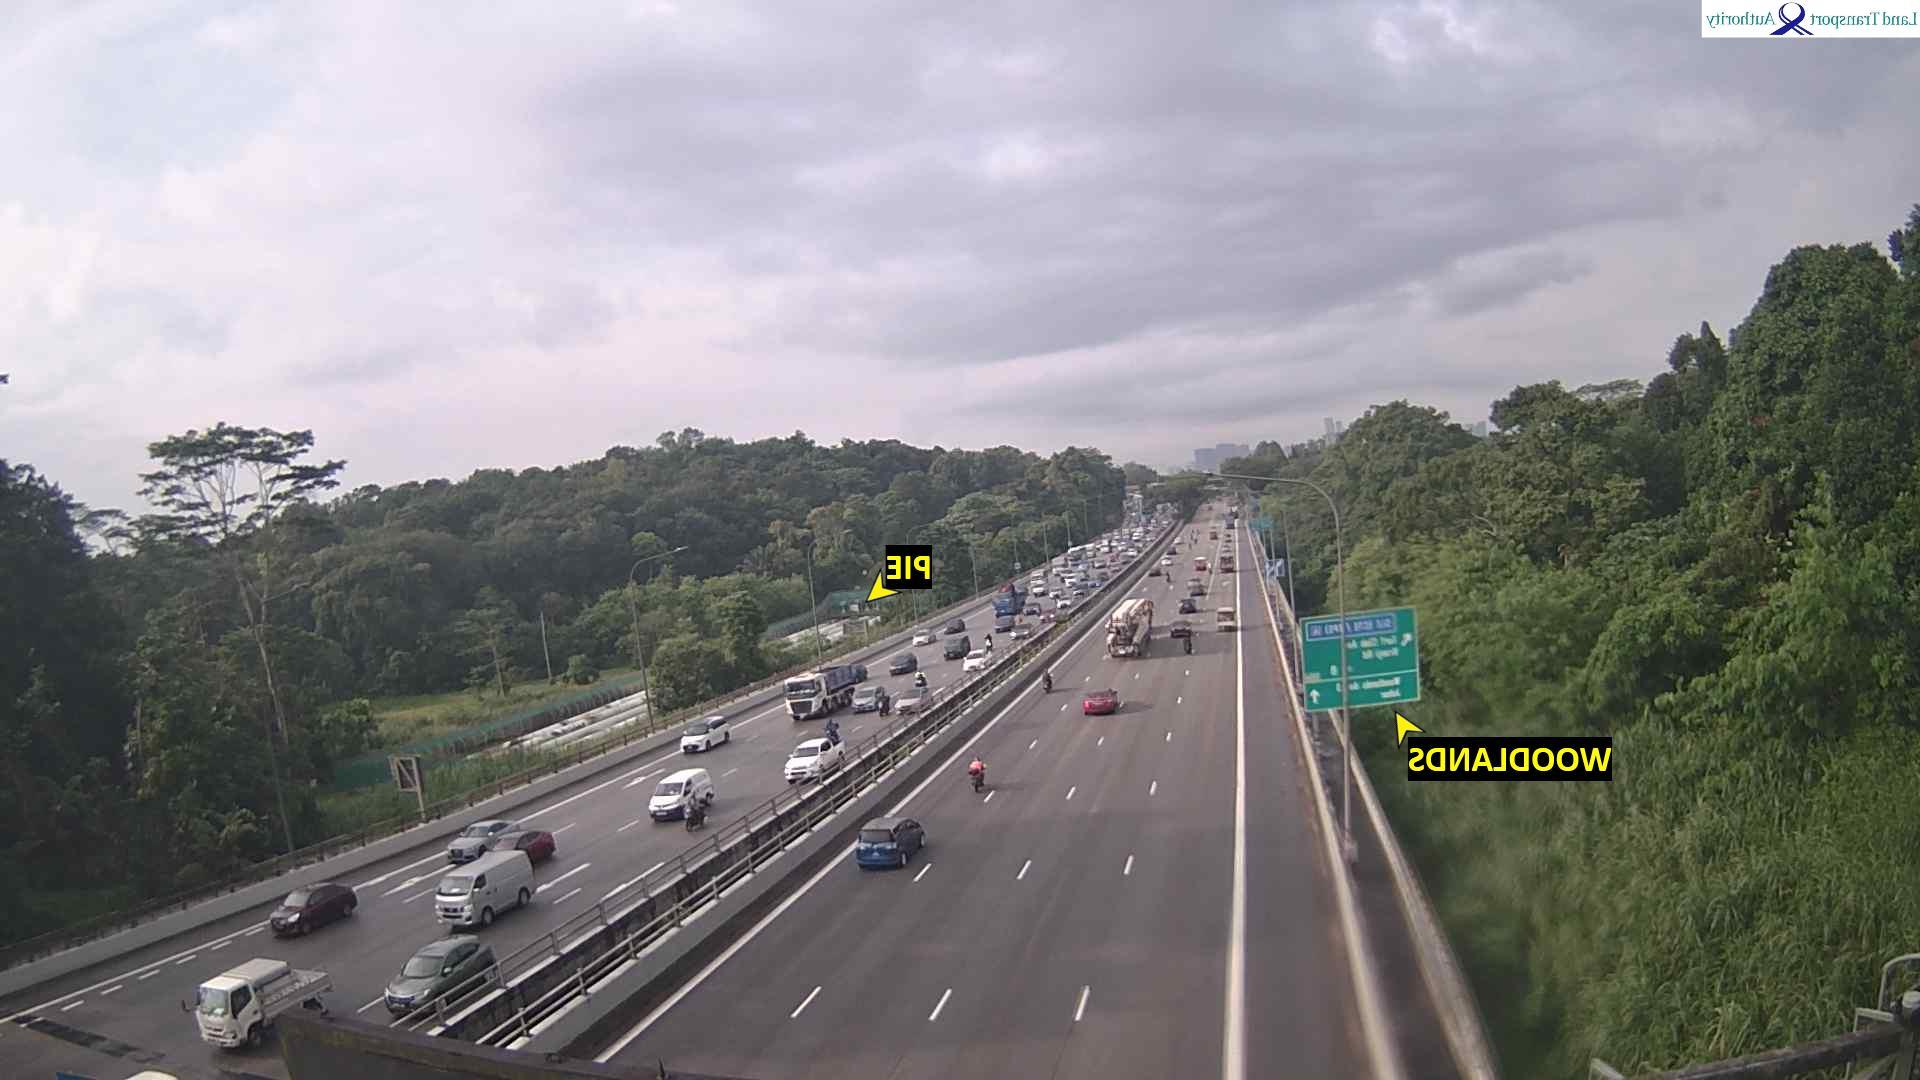incoming: (381, 949, 454, 1022), (179, 982, 239, 1055), (433, 872, 489, 934), (266, 886, 323, 940), (442, 824, 495, 864), (646, 779, 688, 827), (778, 676, 823, 720), (785, 742, 825, 786), (679, 721, 713, 754), (891, 690, 924, 719), (851, 687, 878, 712)
